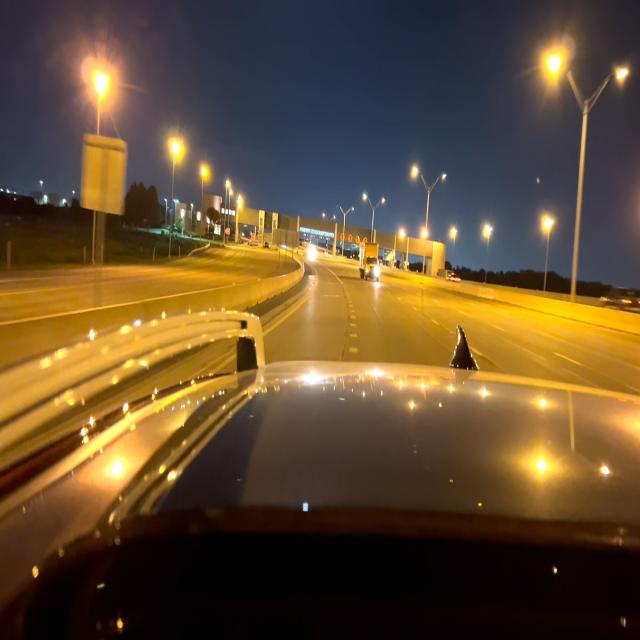back-of-sign: (84, 135, 121, 208)
